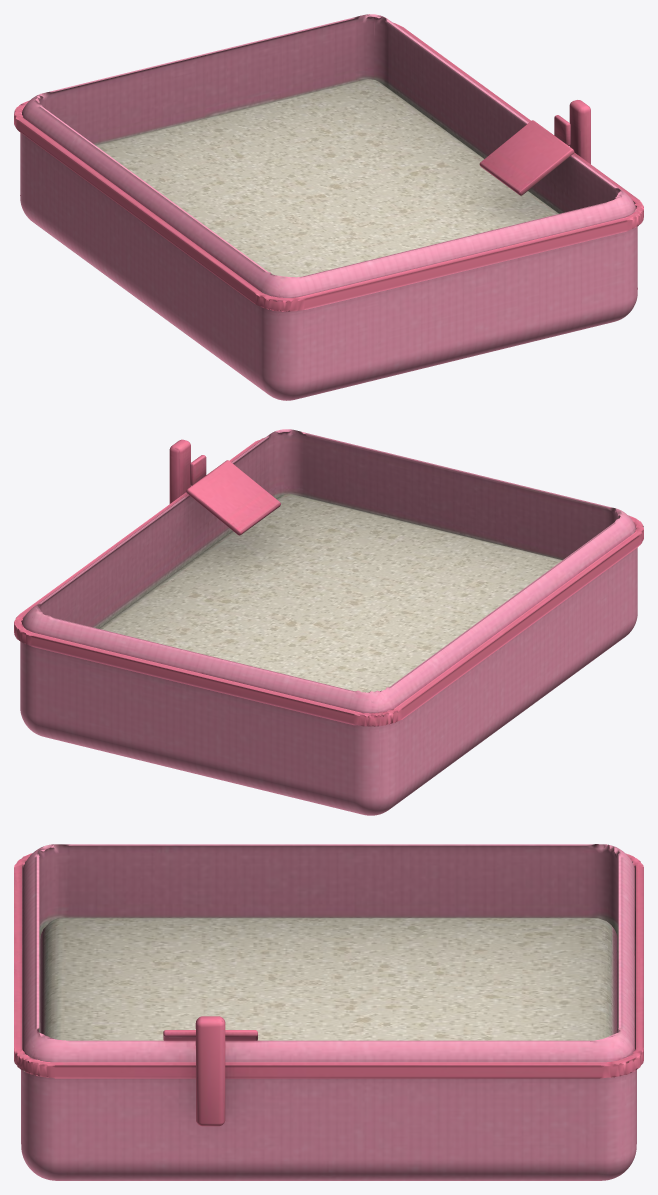
Rendered from litter_box.glb.
3 renders of one model, top to bottom at view 1: azimuth 30°, elevation 25°; view 2: azimuth 150°, elevation 25°; view 3: azimuth 270°, elevation 25°, orthographic. The views are drawn at different scales.
Visible parts, largest first — view 1: litter_box; view 2: litter_box; view 3: litter_box.
Boxes of the visible parts, x1=… form: litter_box: x1=14, y1=14, x2=643, y2=400; litter_box: x1=14, y1=429, x2=643, y2=815; litter_box: x1=14, y1=844, x2=643, y2=1180.
Size of the model in its own units: 0.8969 by 0.3398 by 1.06.
Materials: 1 (1 with a texture image).
